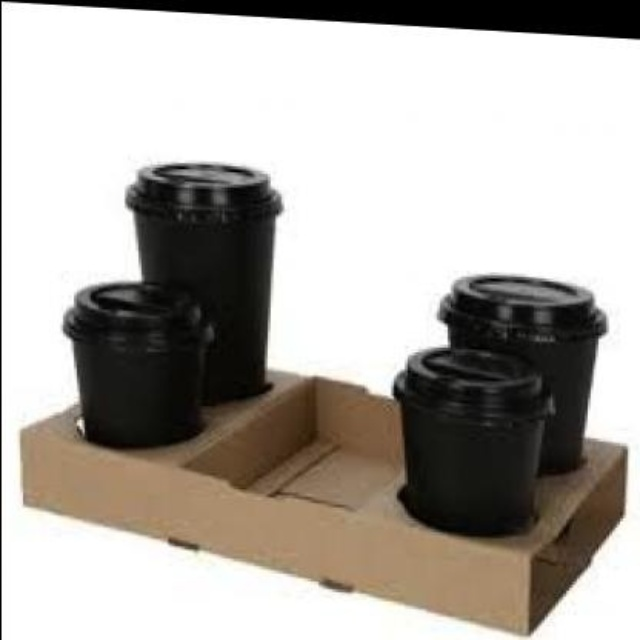trash: (126, 163, 282, 402), (438, 275, 606, 471), (394, 348, 543, 534), (63, 283, 205, 445)
